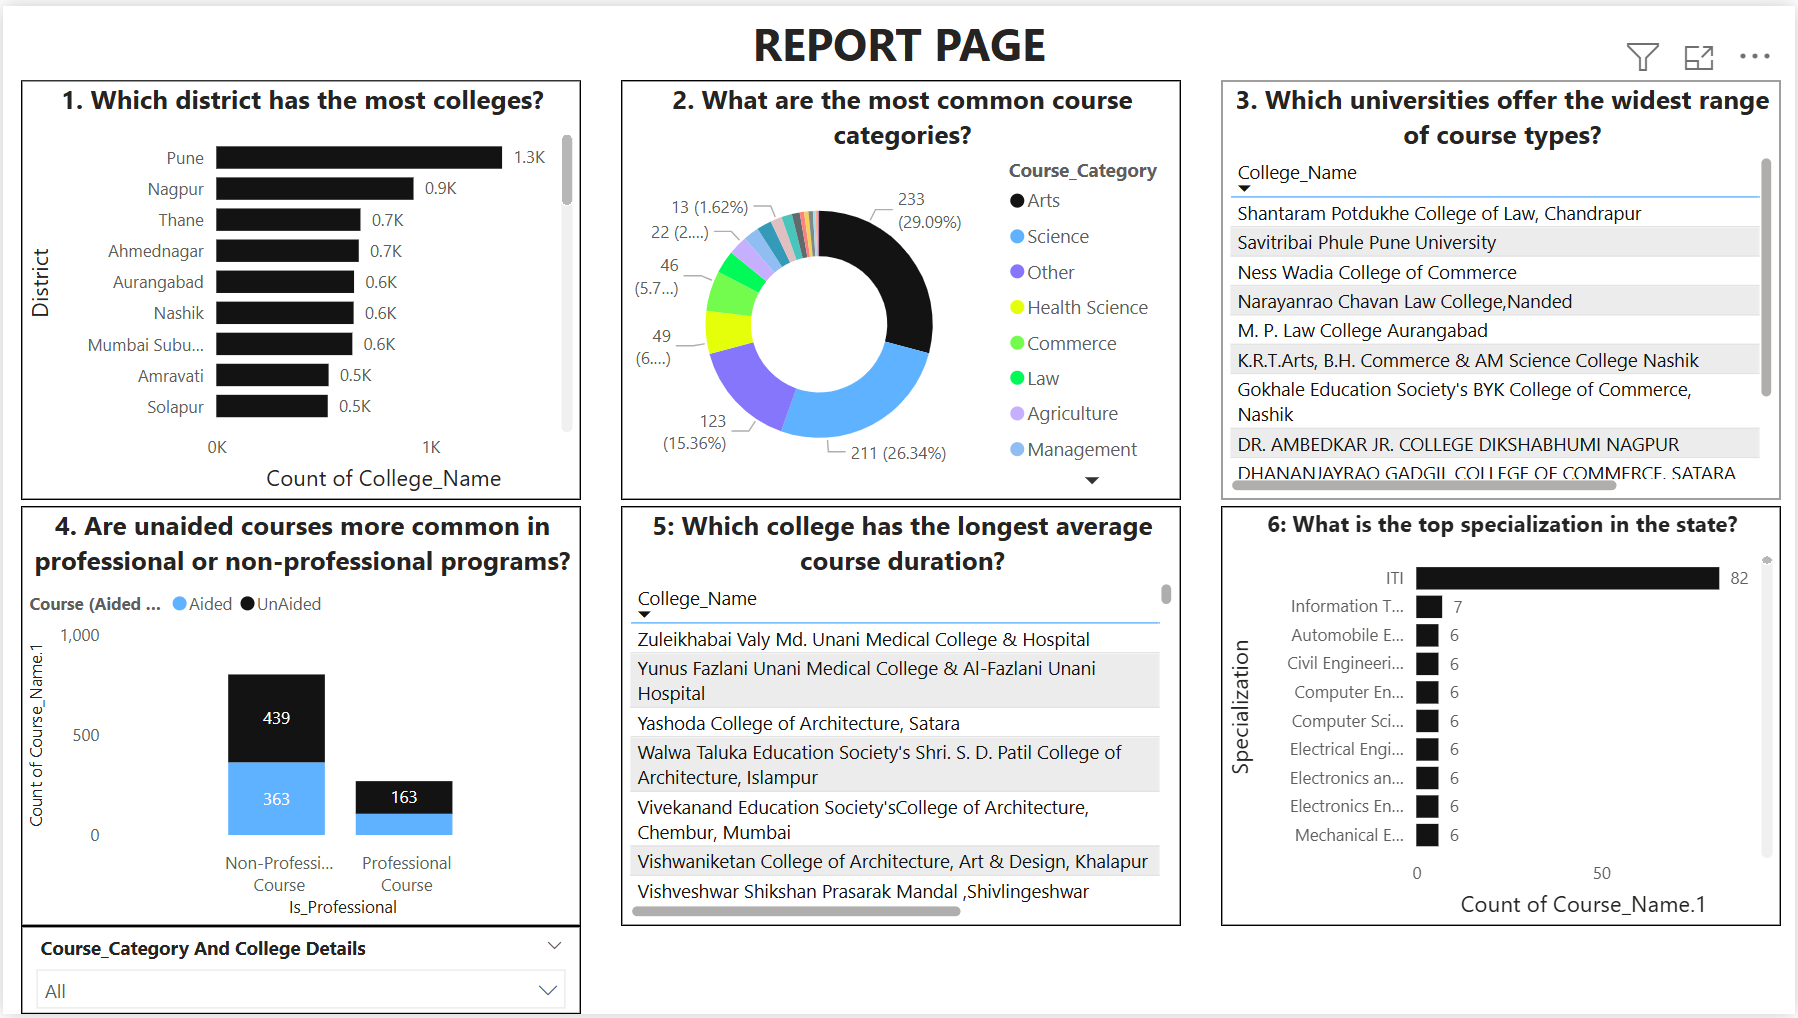

What the dashboard file says about the page in this screenshot:
{"tool":"powerbi","page":{"name":"Report Page (Q&A)","canvas":[1280,720],"ordinal":1},"visuals":[{"type":"clusteredBarChart","title":"1. Which district has the most colleges?","fields":{"Category":["DA Batch 10 SQL & PowerBi Data set.District"],"Y":["DA Batch 10 SQL & PowerBi Data set.College_Name"]},"box":[12.9,52.9,400,300],"z":0},{"type":"textbox","box":[0,0,1280,52.9],"z":500},{"type":"donutChart","title":"2. What are the most common course categories?","fields":{"Category":["DA Batch 10 SQL & PowerBi Data set.Course_Category"],"Y":["DA Batch 10 SQL & PowerBi Data set.Course_Name.1"]},"box":[441.4,52.9,400,300],"z":1000},{"type":"tableEx","title":"3. Which universities offer the widest range of course types?","fields":{"Values":["DA Batch 10 SQL & PowerBi Data set.College_Name","DA Batch 10 SQL & PowerBi Data set.Course_Type"]},"box":[870,52.9,400,300],"z":2000},{"type":"columnChart","title":"4. Are unaided courses more common in professional or non-professional programs?","fields":{"Y":["DA Batch 10 SQL & PowerBi Data set.Course_Name.1"],"Series":["DA Batch 10 SQL & PowerBi Data set.Course (Aided / Unaided)"],"Category":["DA Batch 10 SQL & PowerBi Data set.Is_Professional"]},"box":[12.9,357.1,400,300],"z":3000},{"type":"tableEx","title":"5: Which college has the longest average course duration?","fields":{"Values":["DA Batch 10 SQL & PowerBi Data set.College_Name","DA Batch 10 SQL & PowerBi Data set.Course_Duration_Months"]},"box":[441.4,357.1,400,300],"z":4000},{"type":"clusteredBarChart","title":"6: What is the top specialization in the state?","fields":{"Y":["DA Batch 10 SQL & PowerBi Data set.Course_Name.1"],"Category":["DA Batch 10 SQL & PowerBi Data set.Specialization"]},"box":[870,357.1,400,300],"z":5000},{"type":"slicer","fields":{"Values":["DA Batch 10 SQL & PowerBi Data set.Course_Category","DA Batch 10 SQL & PowerBi Data set.College_Type","DA Batch 10 SQL & PowerBi Data set.Course_Type","DA Batch 10 SQL & PowerBi Data set.Is_Professional"]},"box":[12.9,657.1,400,62.9],"z":6000}]}

Visuals, with their boxes in screenshot pixels (x1, y1, x2, y2), scaled from the page's 1280x720 canvas onto the 1798x1018 screenshot:
"1. Which district has the most colleges?" clusteredBarChart: [18, 75, 580, 499]
textbox: [0, 0, 1797, 75]
"2. What are the most common course categories?" donutChart: [620, 75, 1182, 499]
"3. Which universities offer the widest range of course types?" tableEx: [1222, 75, 1784, 499]
"4. Are unaided courses more common in professional or non-professional programs?" columnChart: [18, 505, 580, 929]
"5: Which college has the longest average course duration?" tableEx: [620, 505, 1182, 929]
"6: What is the top specialization in the state?" clusteredBarChart: [1222, 505, 1784, 929]
slicer - DA Batch 10 SQL & PowerBi Data set.Course_Category x DA Batch 10 SQL & PowerBi Data set.College_Type: [18, 929, 580, 1017]
